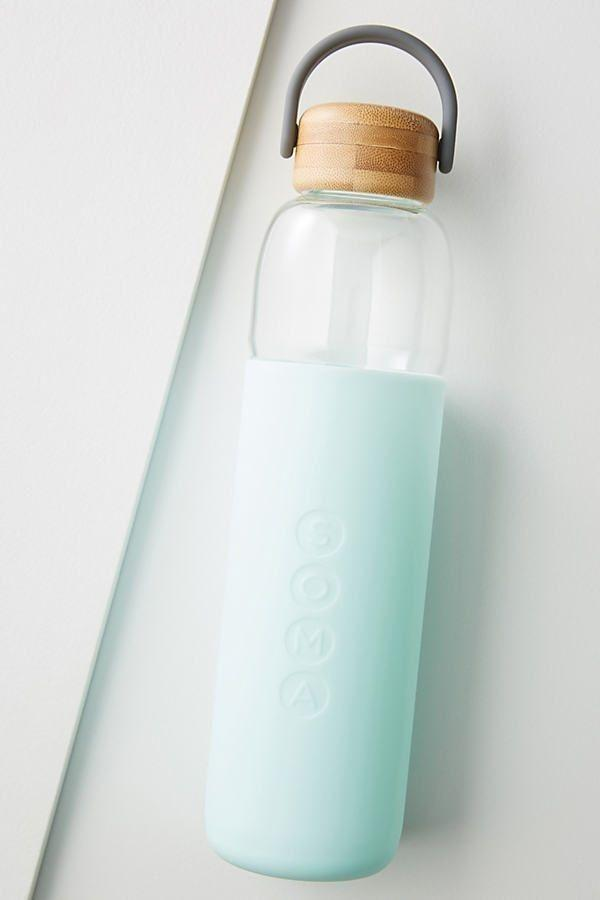gym bottle: (199, 24, 460, 886)
